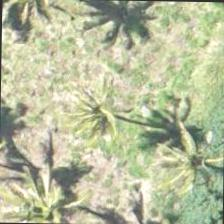Kelapa_Sawit: (60, 72, 152, 164), (146, 115, 223, 207), (0, 152, 91, 223)
